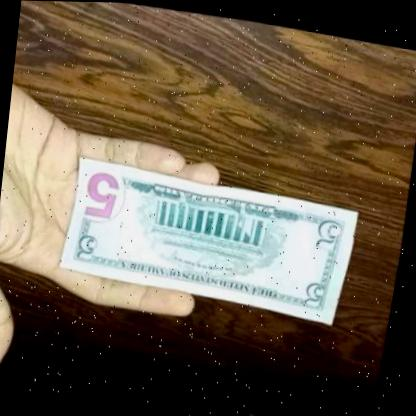five-back: (54, 141, 366, 329)
